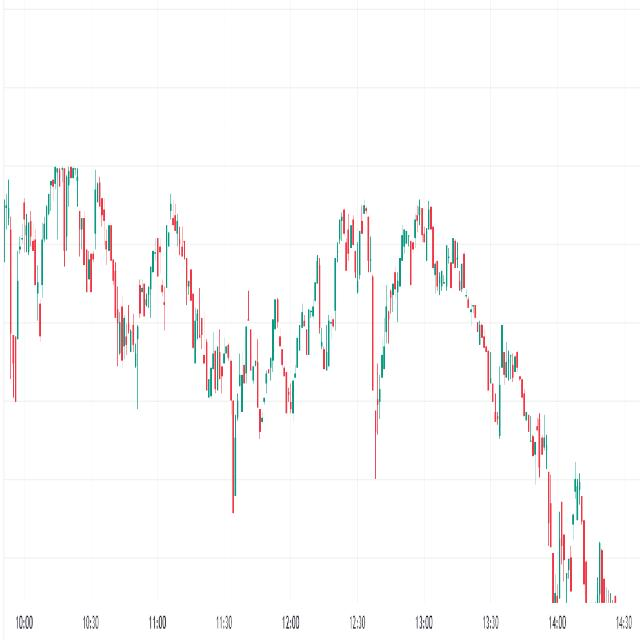Ascending-Triangle: (0, 151, 94, 499)
Rounding-Bottom: (175, 177, 352, 453)
